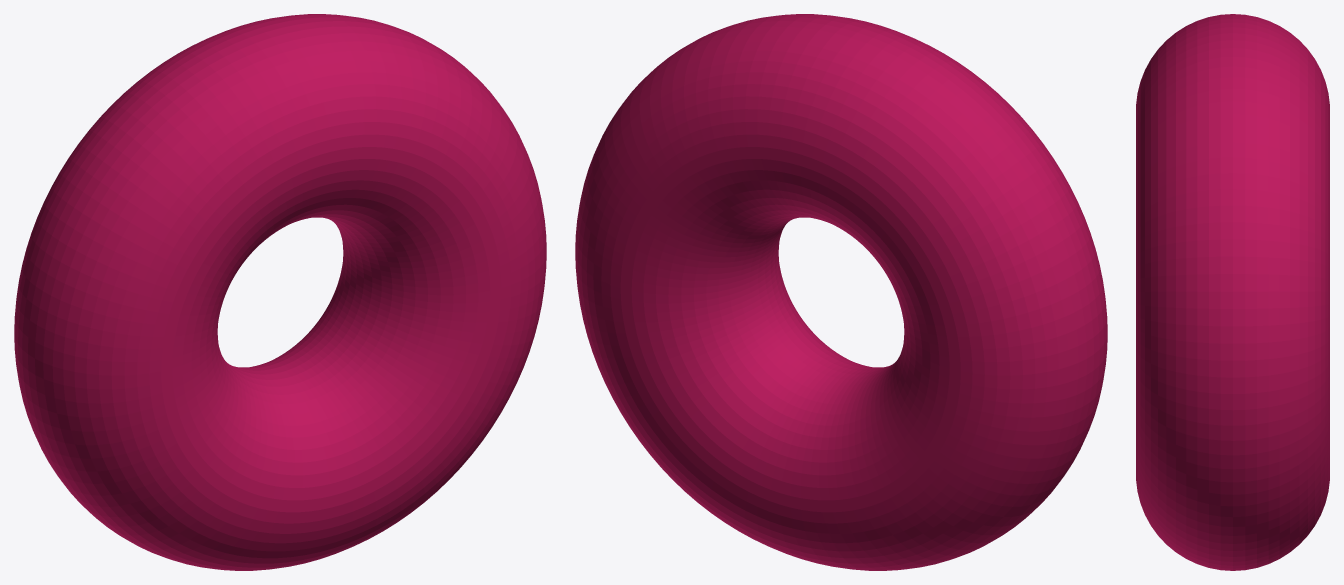
3 views of the same model, side by side, from view 1: azimuth 30°, elevation 25°; view 2: azimuth 150°, elevation 25°; view 3: azimuth 270°, elevation 25° (orthographic). The views are drawn at different scales.
Parts seen in each view (by area): view 1: world; view 2: world; view 3: world.
Boxes of the visible parts, x1=… form: world: x1=14, y1=14, x2=546, y2=570; world: x1=575, y1=14, x2=1107, y2=570; world: x1=1136, y1=14, x2=1329, y2=570.
Bounding box in the file's own units: 28.67 × 28.67 × 9.98.
